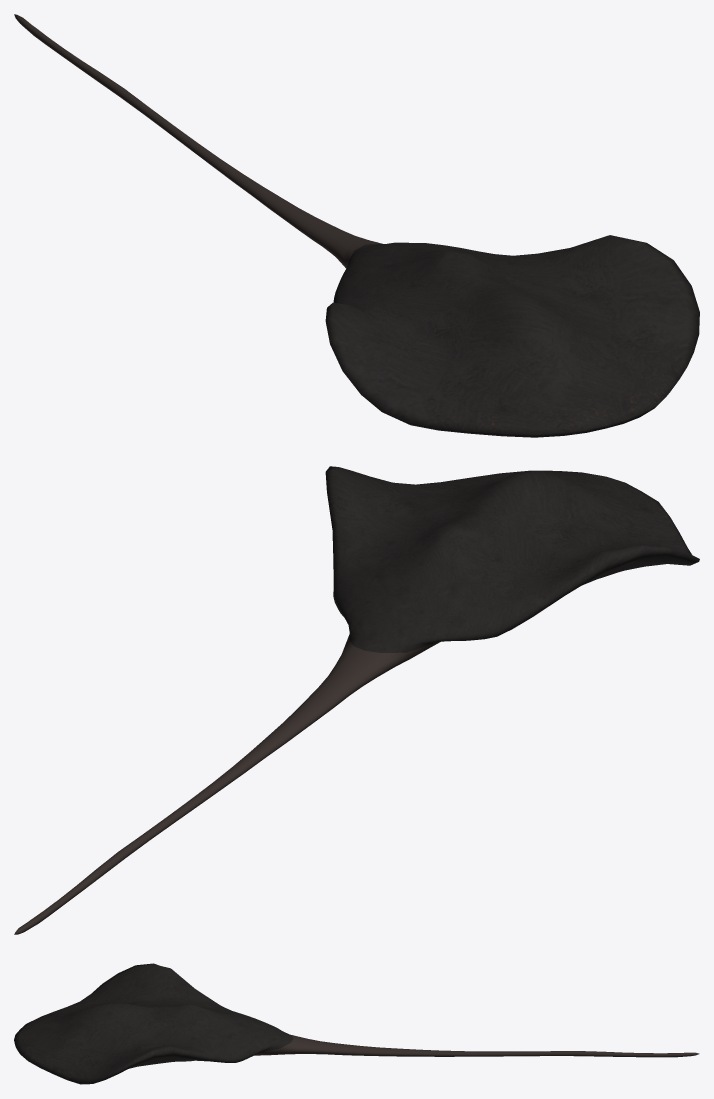
The model's file is juvenile_model.glb.
The picture shows the model from 3 angles, top to bottom: view 1: azimuth 30°, elevation 25°; view 2: azimuth 150°, elevation 25°; view 3: azimuth 270°, elevation 25°; orthographic projection. The views are drawn at different scales.
Visible parts, largest first — view 1: Mountainray; view 2: Mountainray; view 3: Mountainray.
Boxes of the visible parts, left/top/right/bottom form: Mountainray: left=14, top=14, right=699, bottom=437; Mountainray: left=14, top=466, right=699, bottom=934; Mountainray: left=14, top=963, right=699, bottom=1084.
Size of the model in its own units: 8.13 by 2.1 by 23.9.
1 material, 1 textured.
